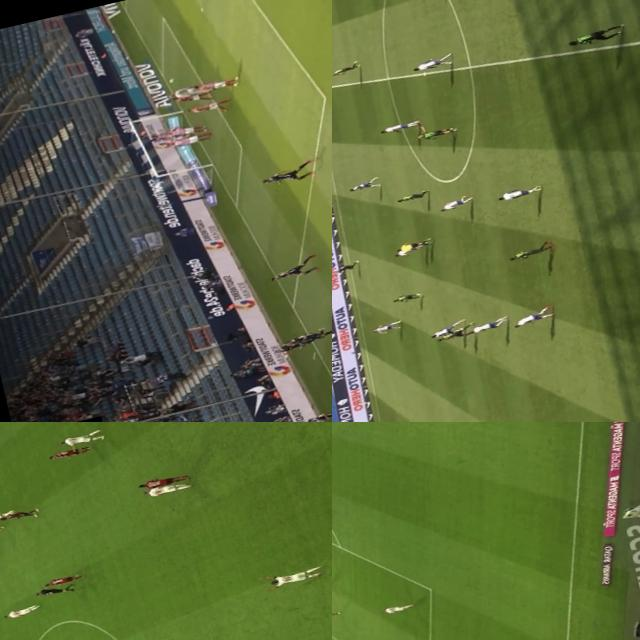ball: (164, 77, 176, 85)
player: (258, 157, 320, 190), (265, 252, 323, 286), (562, 25, 623, 50), (279, 322, 332, 349), (494, 183, 546, 204), (138, 480, 192, 500), (164, 130, 213, 152), (147, 125, 200, 145), (59, 429, 107, 451), (42, 441, 92, 462), (167, 86, 214, 108), (135, 472, 186, 492), (186, 97, 232, 119), (502, 242, 554, 261), (509, 306, 553, 328), (268, 568, 320, 586), (193, 76, 242, 95), (409, 53, 455, 73), (412, 121, 454, 142), (432, 323, 477, 342), (301, 395, 332, 422), (166, 82, 212, 100), (0, 504, 41, 524), (424, 320, 466, 339), (164, 122, 206, 140), (376, 118, 418, 136), (468, 317, 508, 335), (388, 242, 426, 260), (0, 601, 40, 618), (388, 288, 424, 306), (436, 195, 473, 212), (378, 600, 415, 616), (39, 574, 81, 588), (346, 177, 382, 193), (393, 189, 427, 204), (332, 59, 361, 76), (369, 322, 402, 336), (333, 261, 358, 274), (0, 509, 10, 525), (332, 609, 340, 623)
